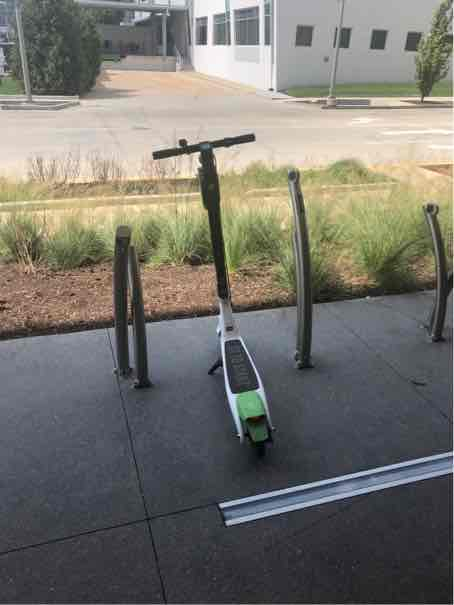scooter: (143, 123, 283, 460)
